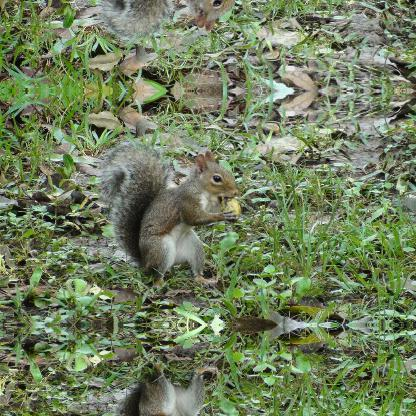Squirrel: (96, 145, 242, 285), (96, 365, 243, 415), (96, 0, 243, 38)
